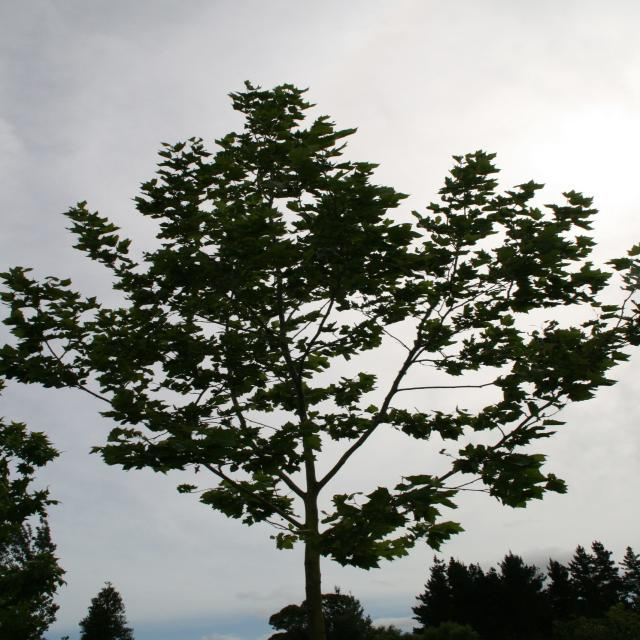Platinus acerifolia: (119, 134, 599, 564)
